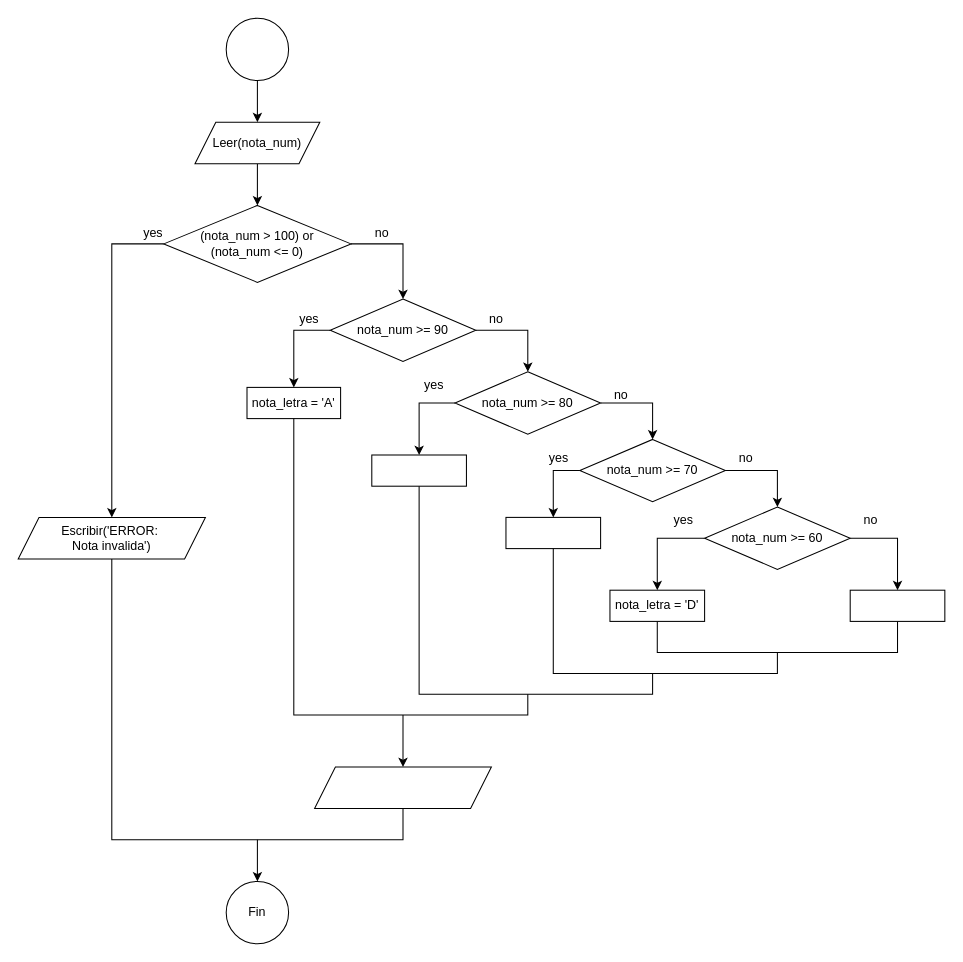
This 963x962 diagram has some shape labels left out. Each missing label, with the centre of its shape:
Escribir( nota_letra): the point at 402,787
Inicio: the point at 257,49
nota_letra = 'B': the point at 418,470
nota_letra = 'C': the point at 553,532
nota_letra = 'E': the point at 897,605
